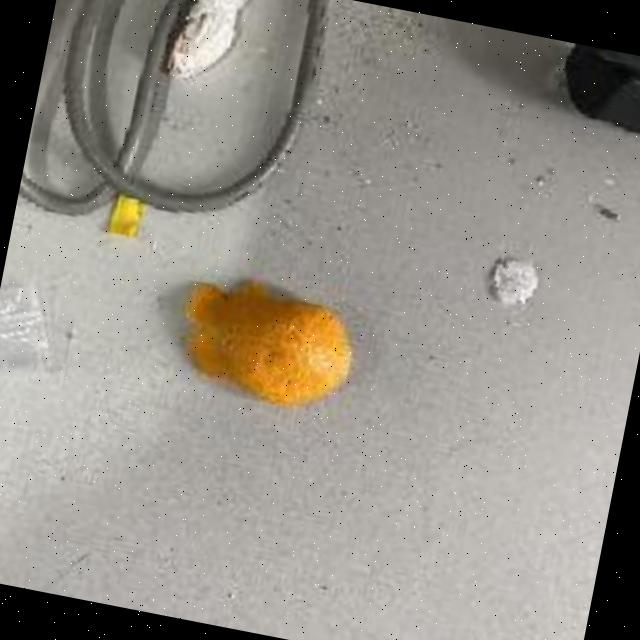orange-peel: (166, 264, 366, 418)
